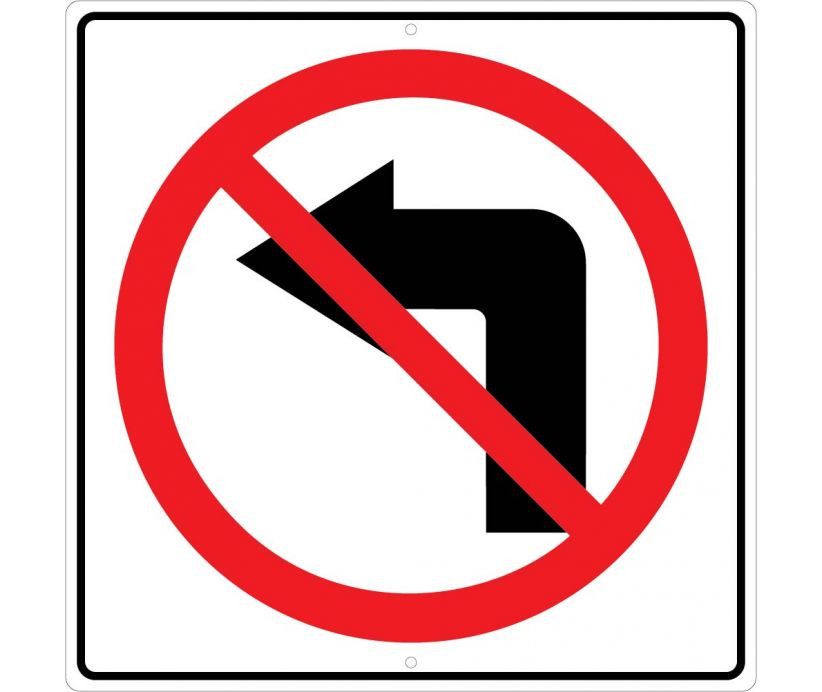No_left_turn: (111, 49, 709, 640)
